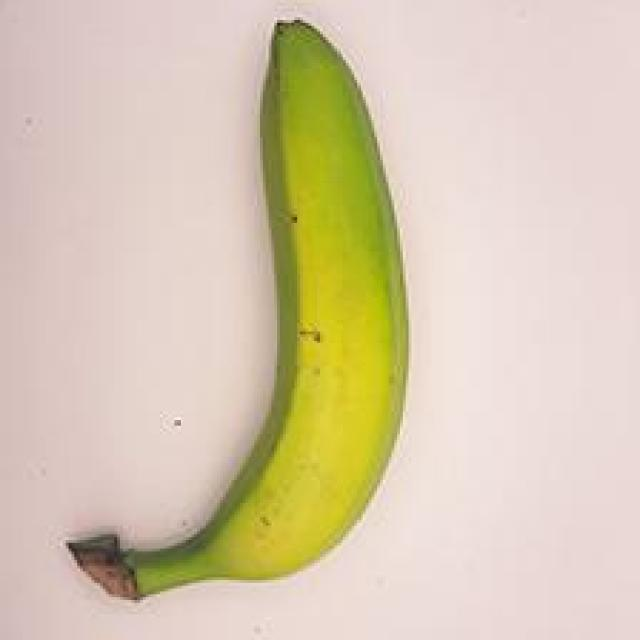Unripe: (51, 12, 427, 610)
